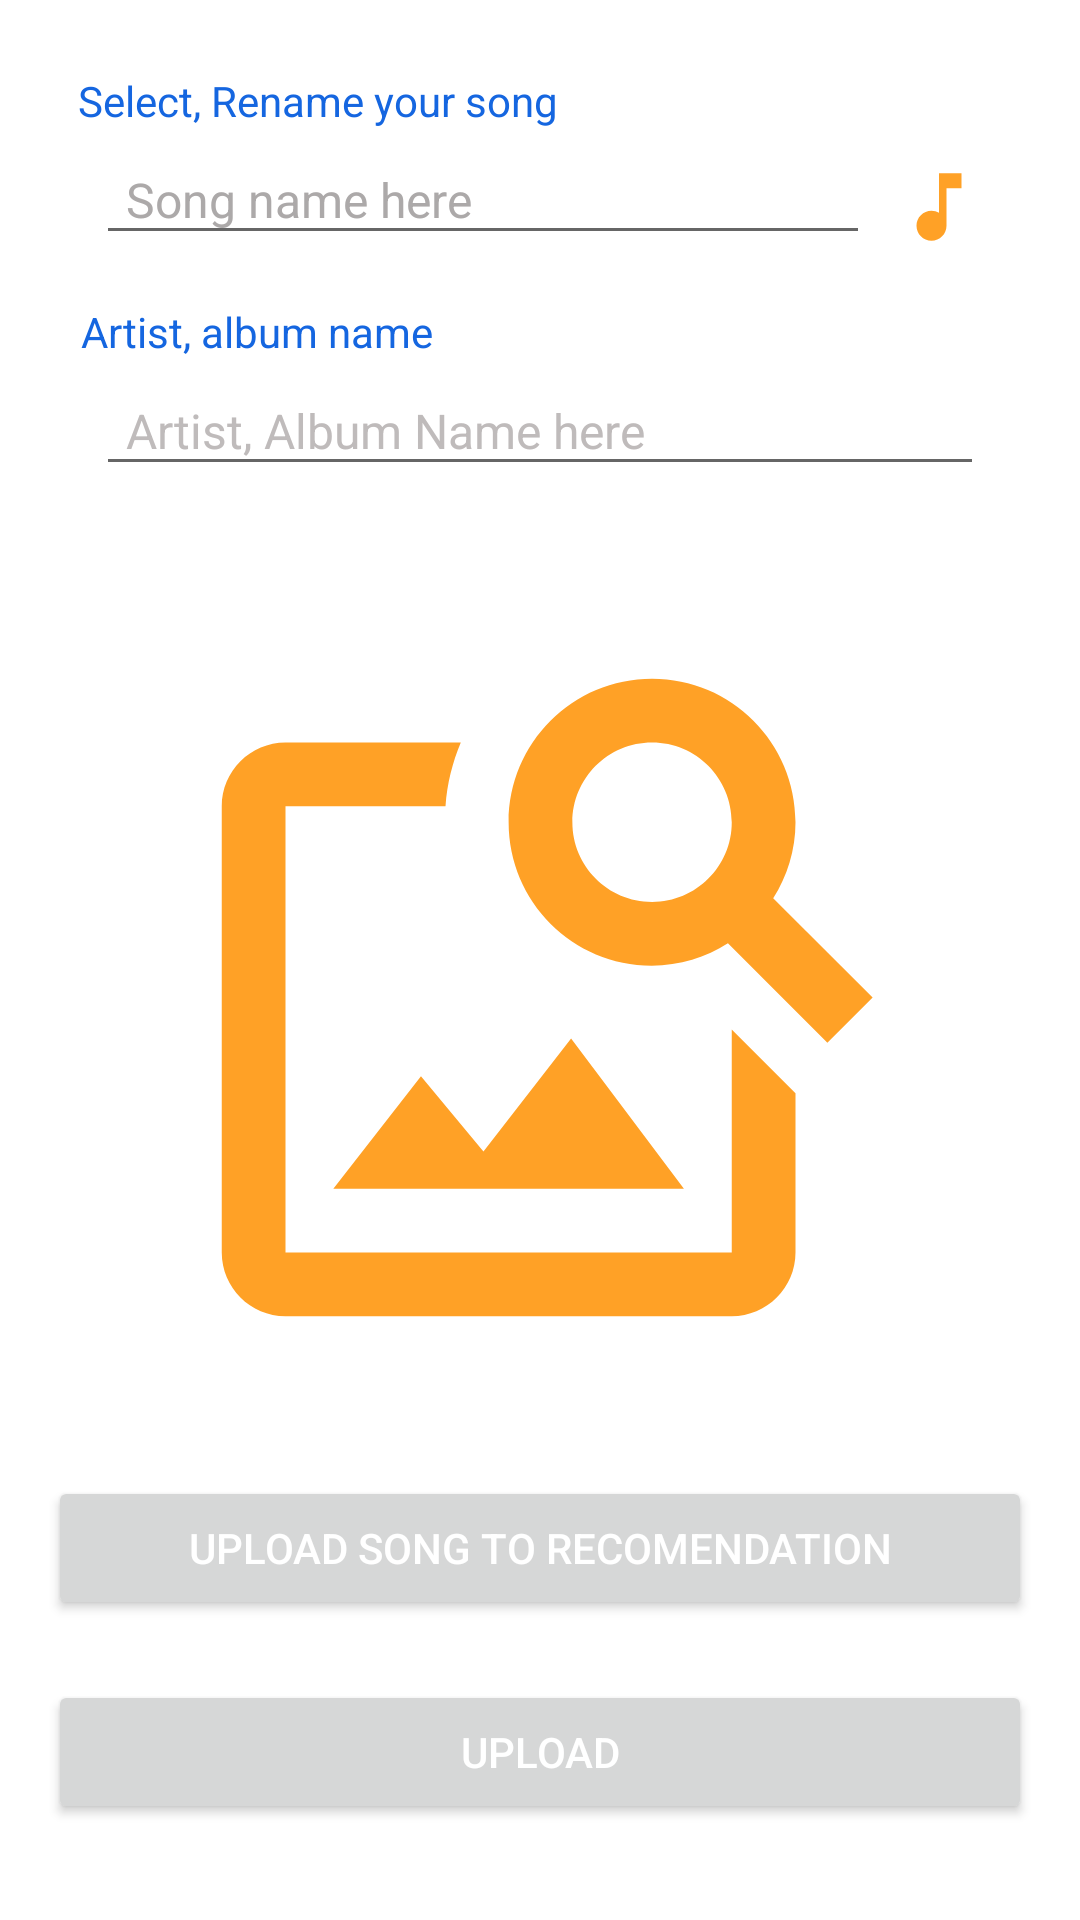

Where icons sit on this 1080px×1920px app screen, as (x1, y1, x2, y2):
music: (916, 173, 962, 241)
